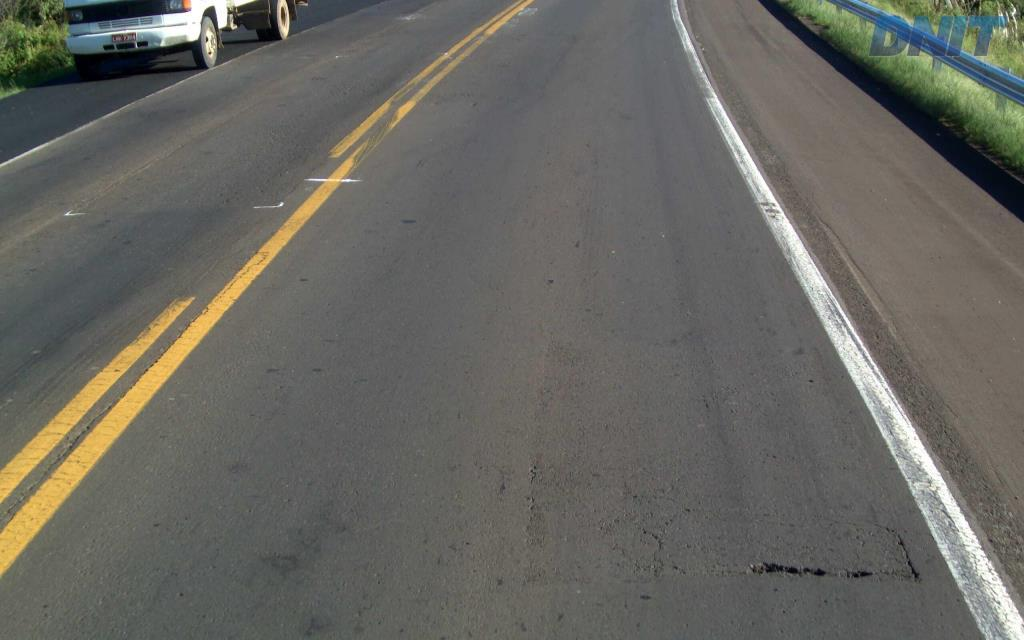crack: (750, 561, 829, 577)
pothole: (739, 551, 876, 585)
